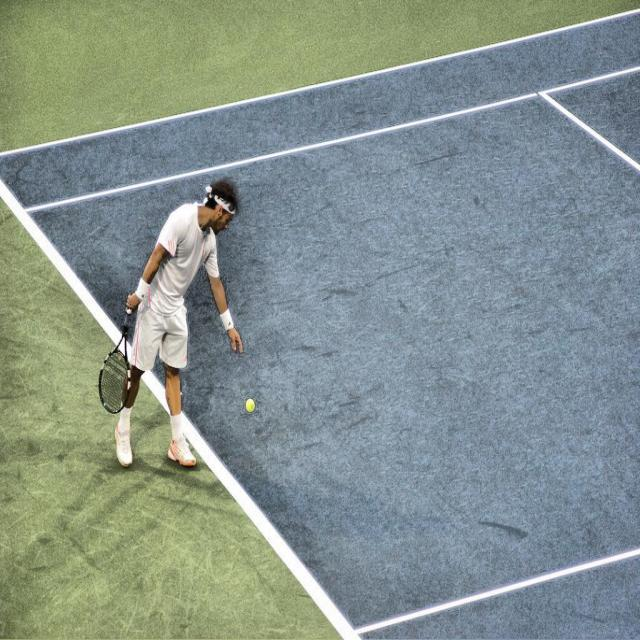tennis-ball: (244, 395, 256, 415)
